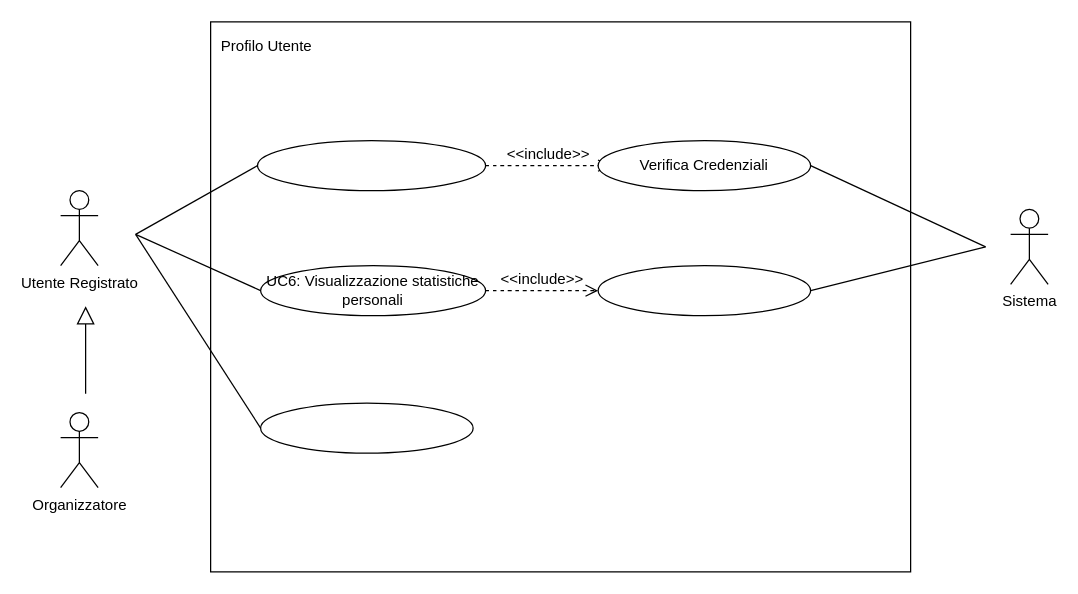
The diagram is 1078 pixels wide and 594 high, and some of its shapes have lost their labels. The shapes that lost their labels are listed below. From the top down, each one's centre as x and y in pixels, then its label:
At (371,165): "UC5: Modifica informazioni profilo".
At (704,290): "Recupero dati".
At (366,427): "UC7: Cancellazione definitiva account".
